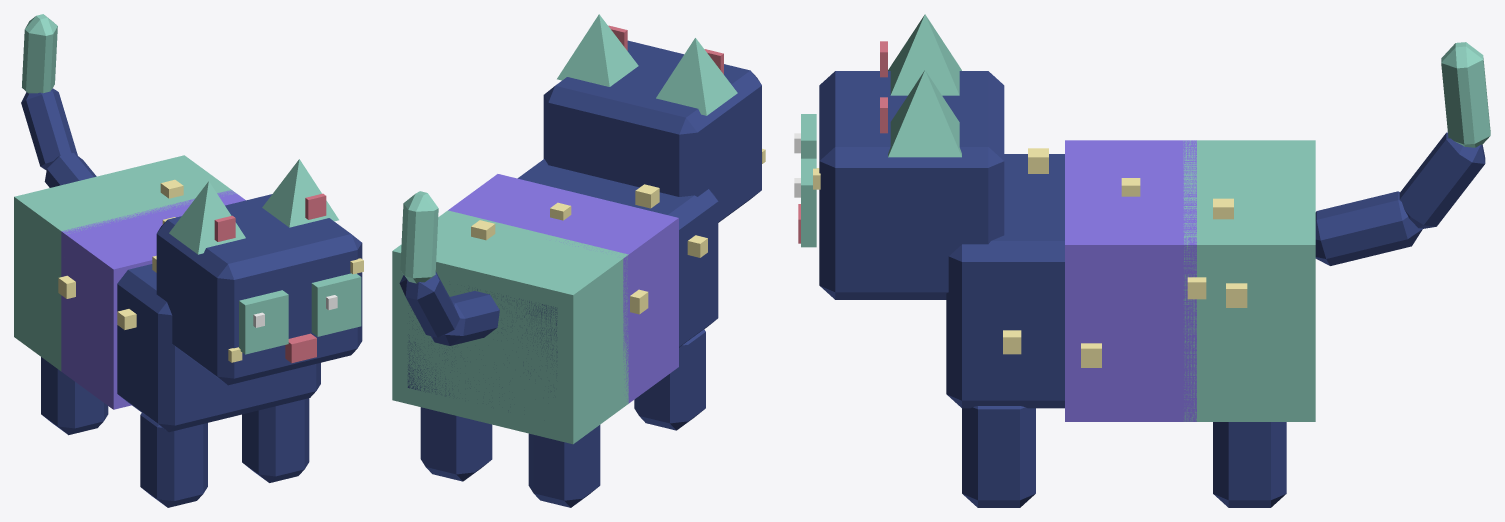
Rendered from CatCafe_Cat_Aurora.fbx.
3 views of the same model, side by side, from view 1: azimuth 30°, elevation 25°; view 2: azimuth 150°, elevation 25°; view 3: azimuth 270°, elevation 25° (orthographic). The views are drawn at different scales.
Parts seen in each view (by area): view 1: CatCafe_Cat_Aurora_Body, CatCafe_Cat_Aurora_Head, CatCafe_Cat_Aurora_Tail; view 2: CatCafe_Cat_Aurora_Body, CatCafe_Cat_Aurora_Head, CatCafe_Cat_Aurora_Tail; view 3: CatCafe_Cat_Aurora_Body, CatCafe_Cat_Aurora_Head, CatCafe_Cat_Aurora_Tail.
Boxes of the visible parts, x1,y1,x2,y2 form: CatCafe_Cat_Aurora_Body: [14, 155, 320, 507]; CatCafe_Cat_Aurora_Head: [156, 159, 363, 385]; CatCafe_Cat_Aurora_Tail: [21, 14, 96, 187]; CatCafe_Cat_Aurora_Body: [392, 159, 718, 507]; CatCafe_Cat_Aurora_Head: [543, 14, 765, 222]; CatCafe_Cat_Aurora_Tail: [399, 191, 499, 345]; CatCafe_Cat_Aurora_Body: [946, 140, 1315, 507]; CatCafe_Cat_Aurora_Head: [794, 14, 1004, 299]; CatCafe_Cat_Aurora_Tail: [1315, 42, 1490, 265].
Size of the model in its own units: 1.04 by 1.78 by 2.64.
1 material, 1 textured.
